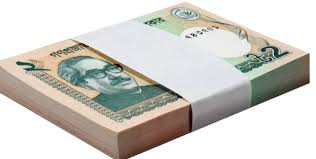2_taka: (16, 4, 295, 124)
